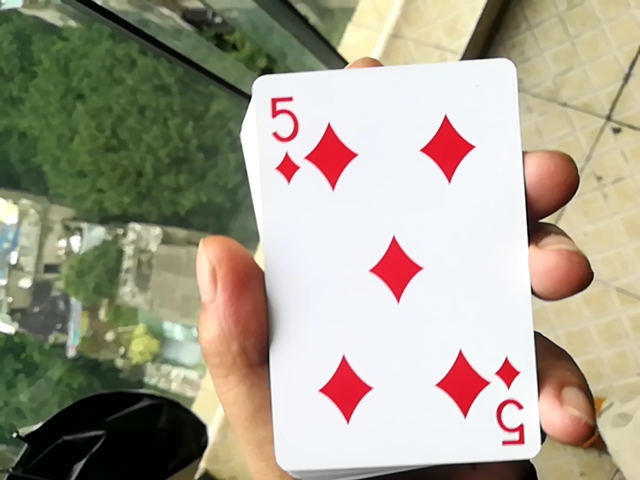fk 5: (224, 45, 541, 476)
